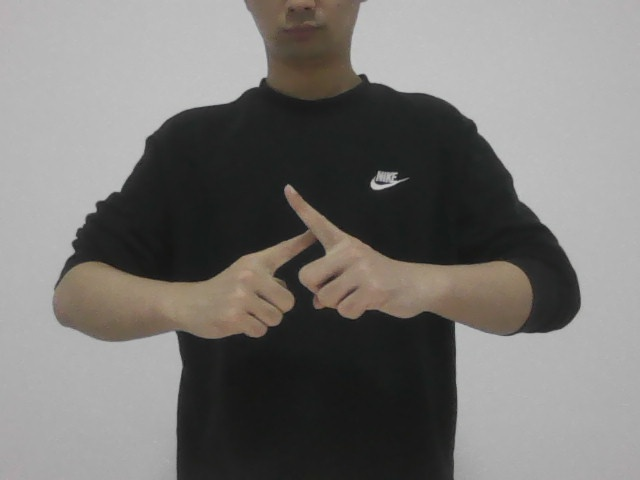peason: (205, 173, 405, 348)
